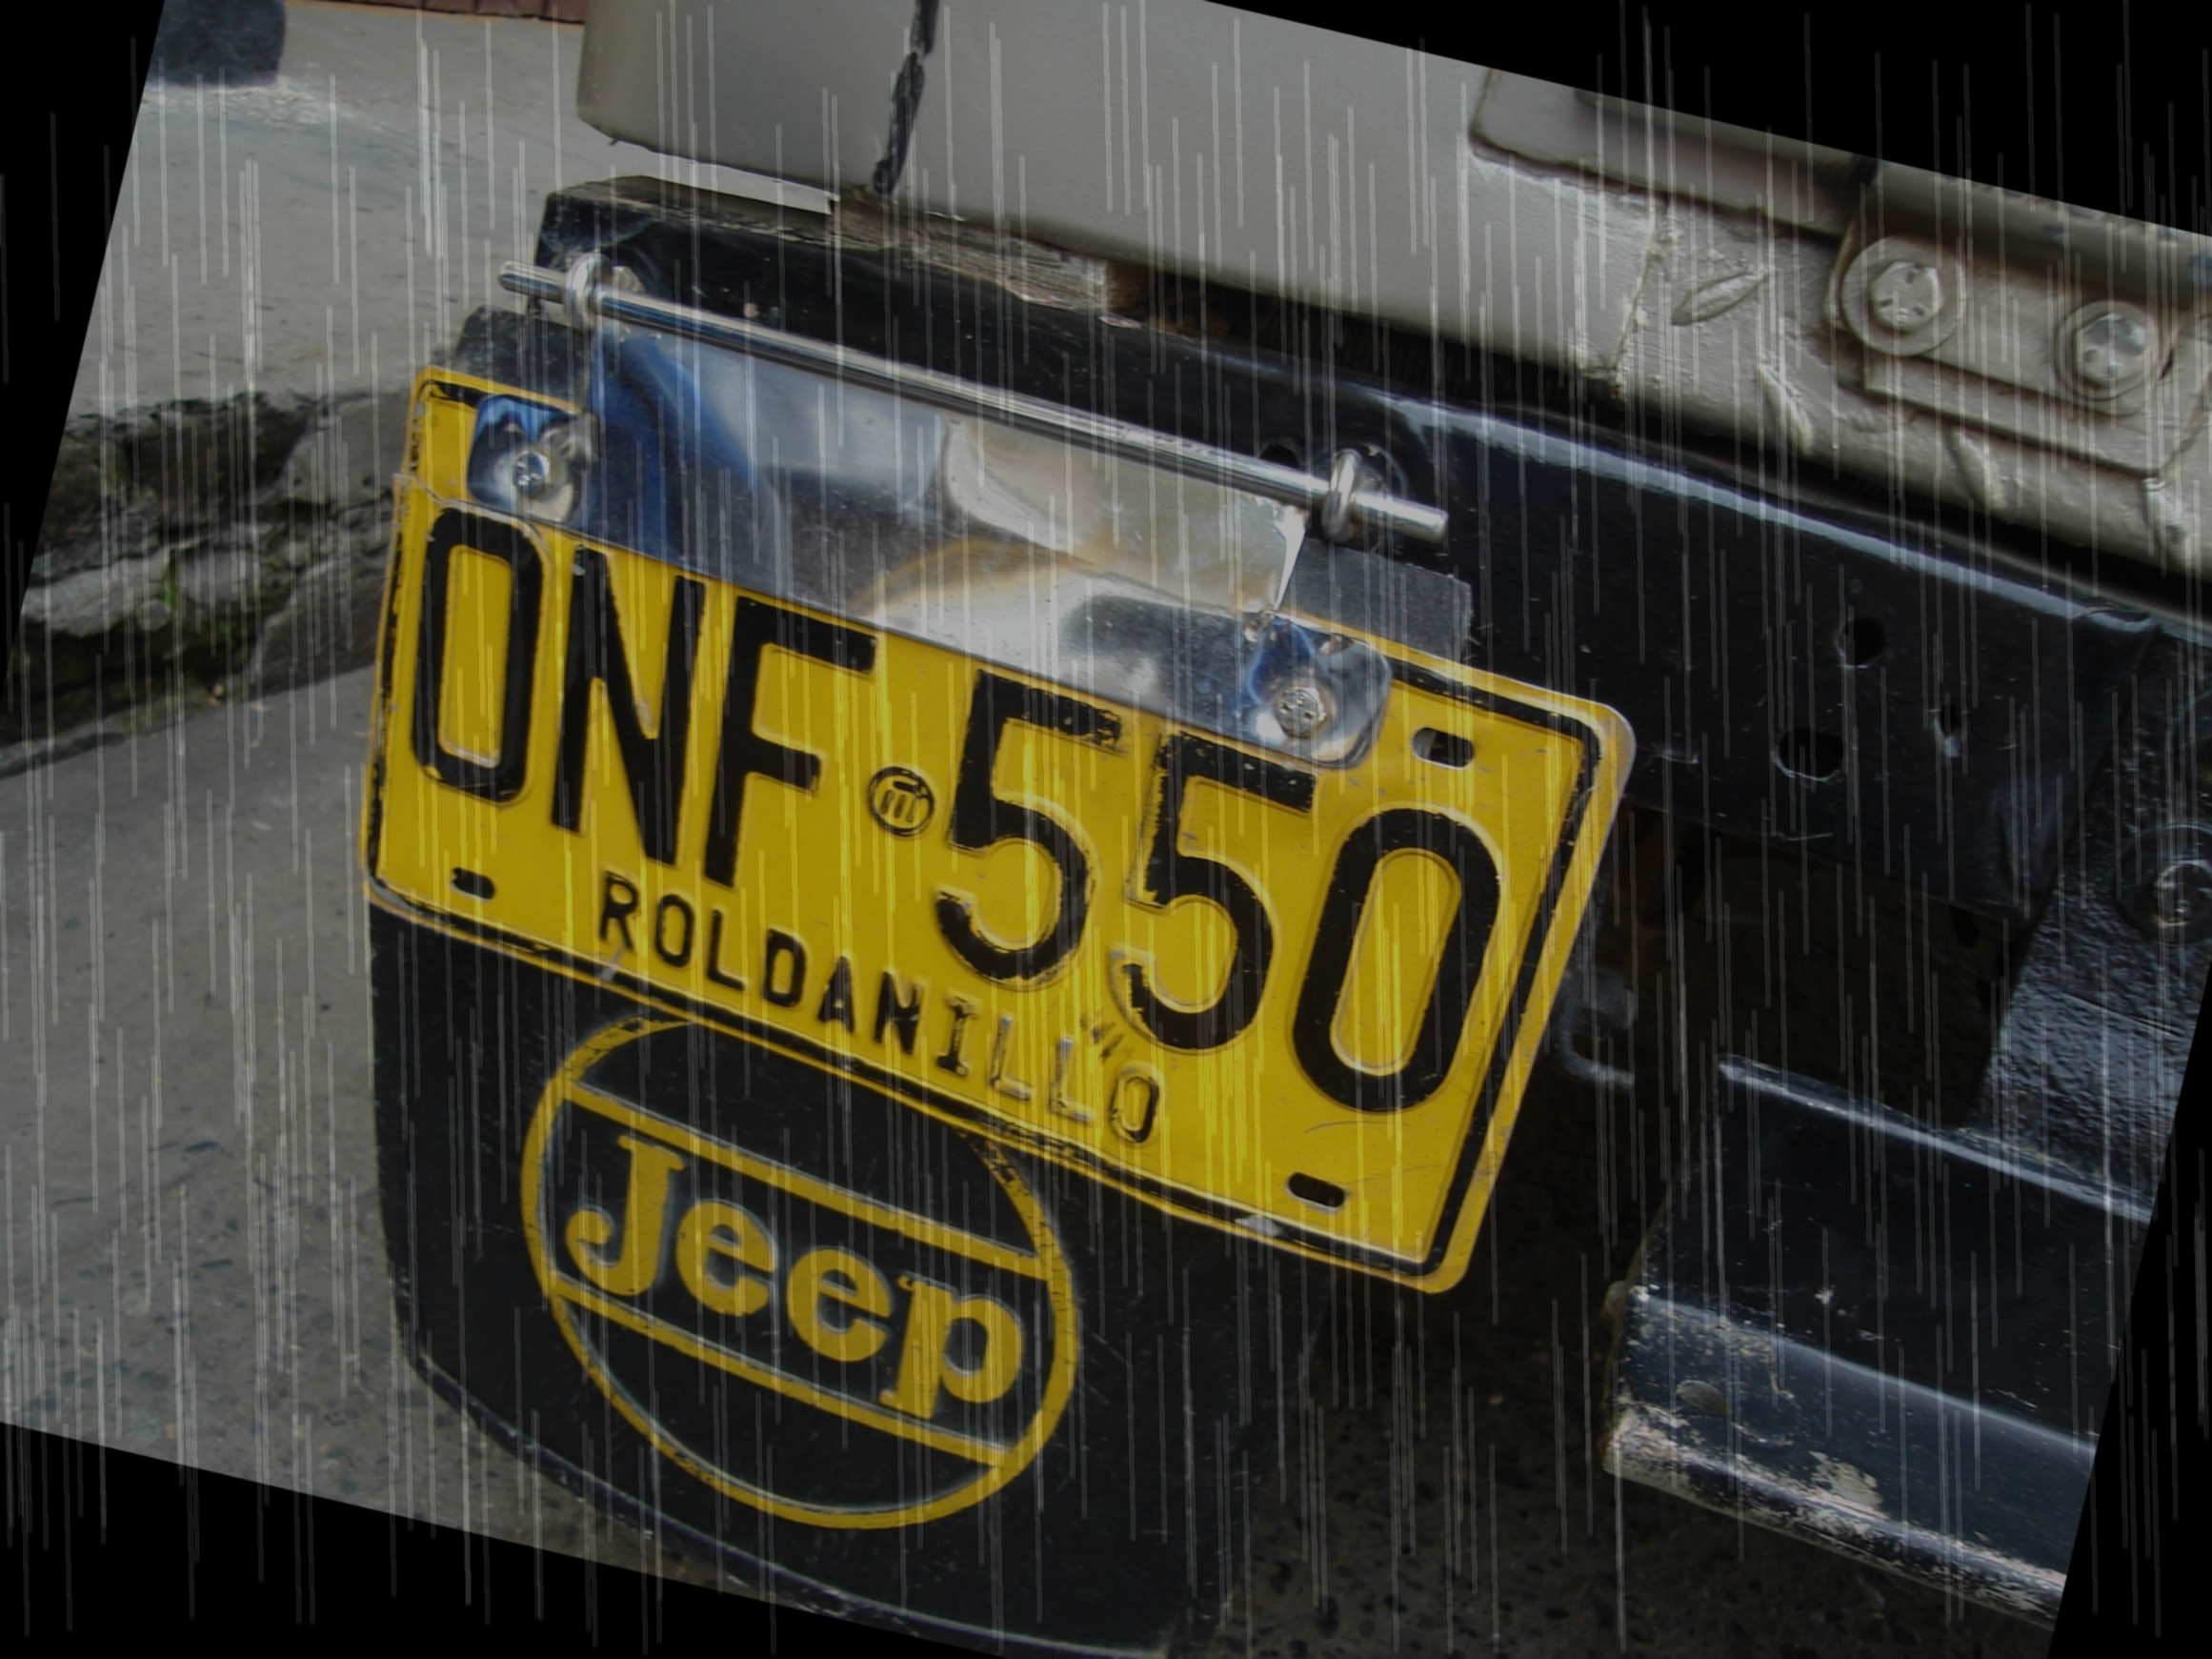placas: (234, 325, 1677, 1329)
